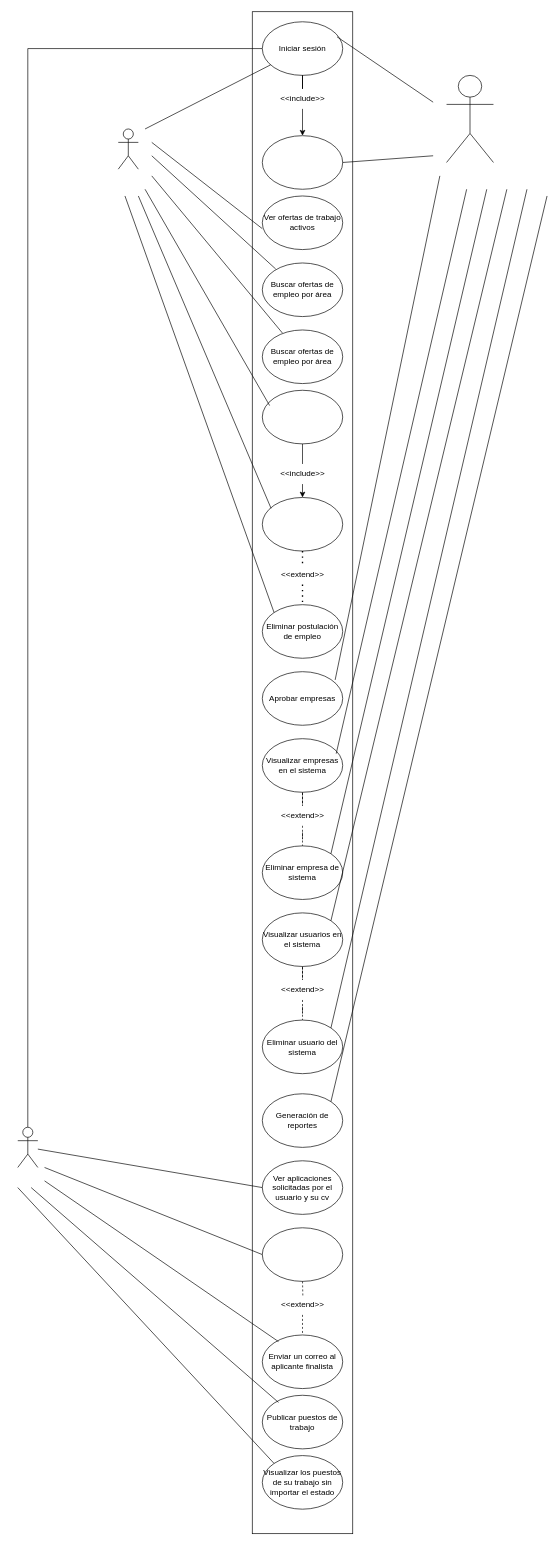
Some shapes in this 559 by 1546 pixel diagram are drawn without their labels. The shapes that lost their labels are listed below. From the top down, each one's centre as x and y in pixels, then its label:
At (x=469, y=118): "Administración".
At (x=128, y=148): "Usuario".
At (x=302, y=162): "Realizar segunda autenticación".
At (x=302, y=417): "Aplicar a un empleo".
At (x=302, y=524): "Visualizar aplicaciones de empleo".
At (x=27, y=1147): "Empresa".
At (x=302, y=1254): "Actualizar el estado de la aplicación".
